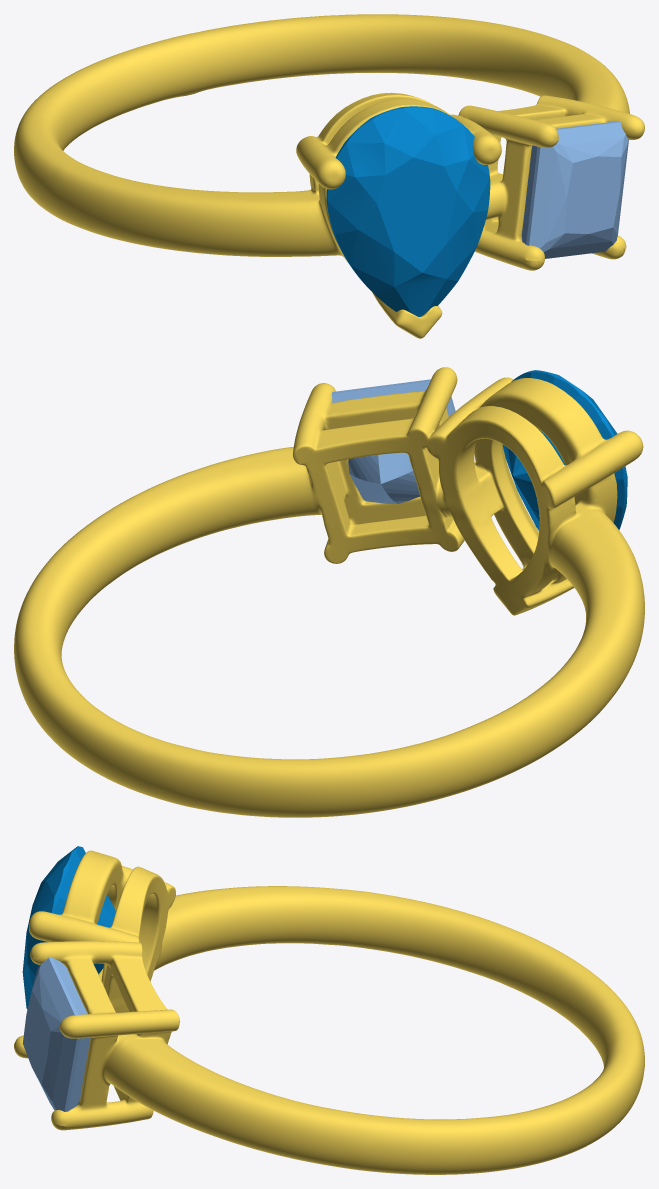
3 views of the same model, one above another, from view 1: azimuth 30°, elevation 25°; view 2: azimuth 150°, elevation 25°; view 3: azimuth 270°, elevation 25° (orthographic). The views are drawn at different scales.
Visible parts, largest first — view 1: for render.3dm, Diamond_Pear, Diamond_Princess; view 2: for render.3dm, Diamond_Princess, Diamond_Pear; view 3: for render.3dm, Diamond_Princess, Diamond_Pear.
Boxes of the visible parts, <box> form: for render.3dm: <box>14,14,644,338</box>; Diamond_Pear: <box>326,106,490,316</box>; Diamond_Princess: <box>521,121,628,260</box>; for render.3dm: <box>14,367,644,817</box>; Diamond_Princess: <box>331,379,455,503</box>; Diamond_Pear: <box>502,370,627,530</box>; for render.3dm: <box>14,850,644,1174</box>; Diamond_Princess: <box>22,957,90,1111</box>; Diamond_Pear: <box>22,846,115,1009</box>.
Bounding box in the file's own units: 2.6 × 1.03 × 2.86.
